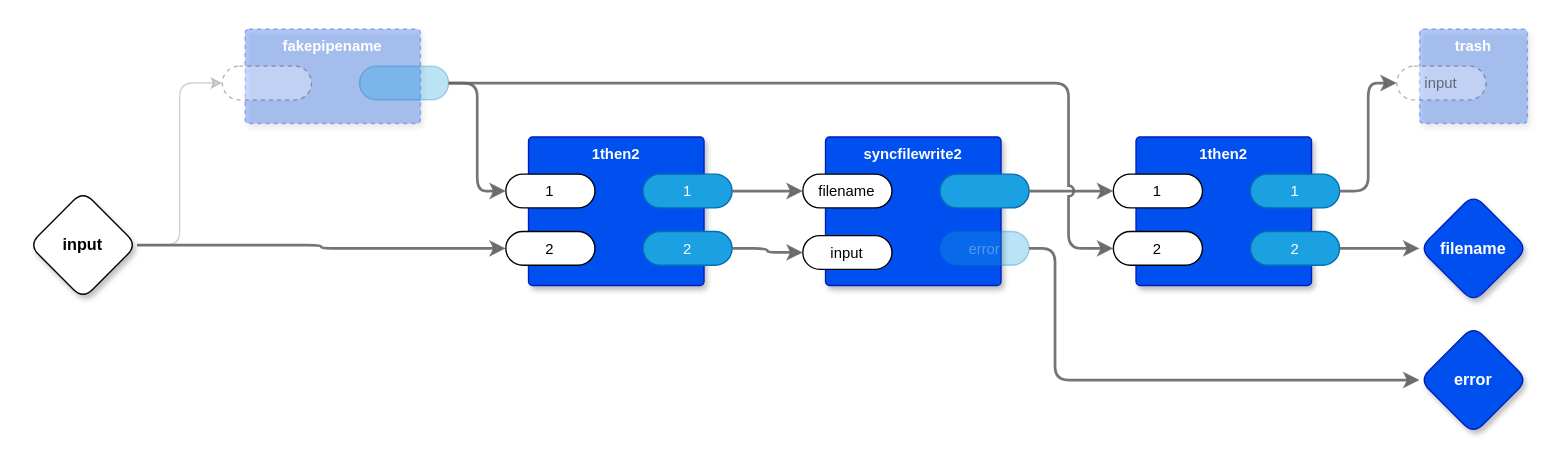
The diagram is 1559 pixels wide and 467 high, and some of its shapes have lost their labels. The centre of each missing label's shape, as x and y in pixels:
"done" goes at (x=984, y=190).
"go" goes at (x=266, y=82).
"output" goes at (x=403, y=82).
